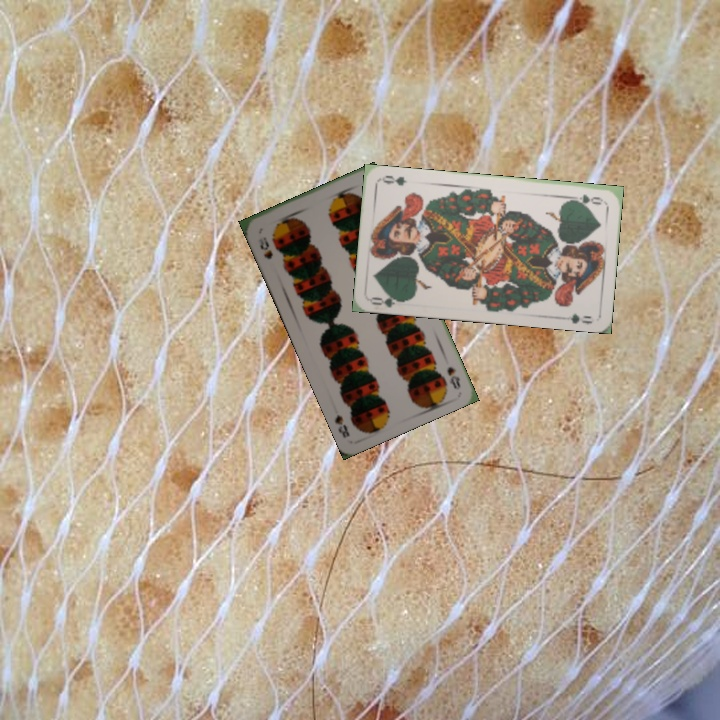GO: (367, 290, 408, 310), (565, 190, 606, 207)
S8: (254, 233, 275, 262), (443, 363, 463, 392)
